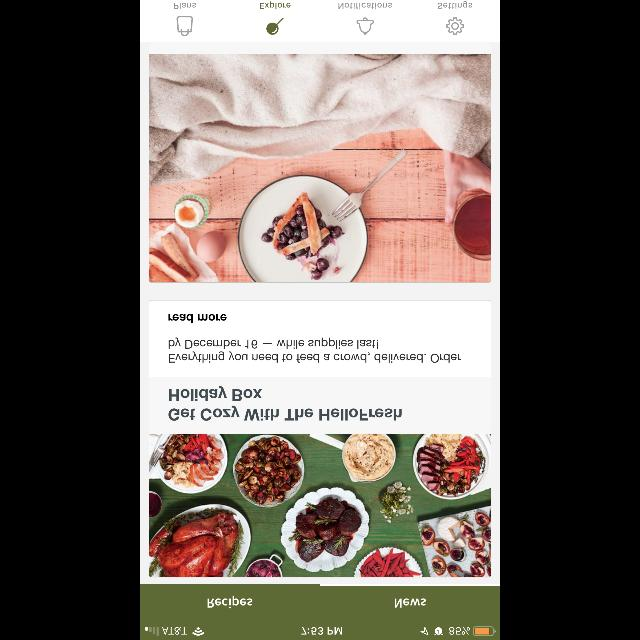icon: (177, 16, 193, 36), (266, 18, 284, 34), (356, 18, 374, 34), (446, 18, 464, 34)
image: (150, 54, 490, 282), (150, 434, 490, 576)
text: (168, 386, 402, 420), (169, 338, 461, 362), (208, 596, 252, 608), (169, 314, 227, 322), (338, 3, 392, 9), (396, 598, 426, 608), (438, 1, 472, 9), (260, 1, 290, 9), (174, 3, 196, 9)
uppertaskbar: (140, 626, 500, 640)
